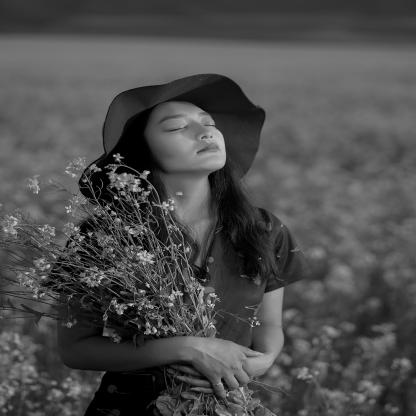Eye: (163, 124, 188, 132), (203, 119, 217, 128)
Mouth: (197, 142, 221, 154)
Nose: (193, 122, 213, 140)
